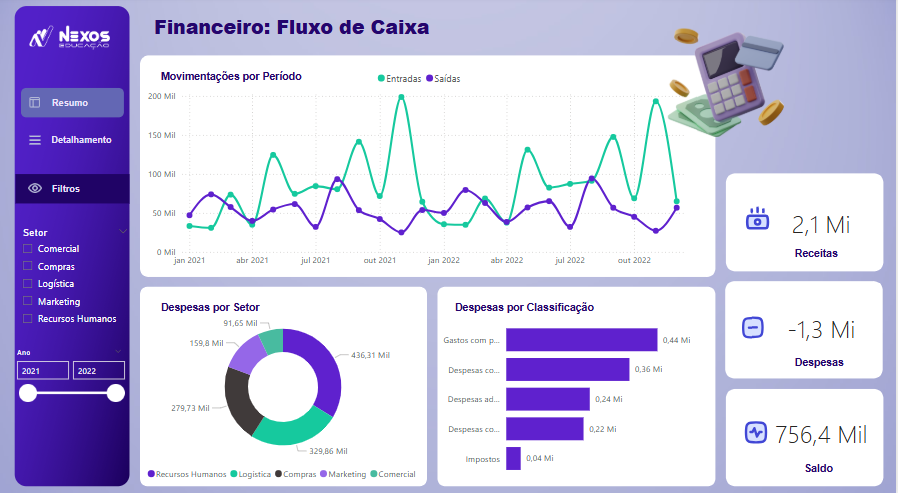

Layout of this report page (visuals, bound fields, positions):
{"tool":"powerbi","page":{"name":"Página 1","canvas":[1280,720],"ordinal":0},"visuals":[{"type":"lineChart","fields":{"Category":["Extratos.Data.Variation.Hierarquia de datas.Ano","Extratos.Data.Variation.Hierarquia de datas.Trimestre","Extratos.Data.Variation.Hierarquia de datas.Mês","Extratos.Data.Variation.Hierarquia de datas.Dia"],"Series":["Extratos.Tipo Movimentação"],"Y":["Sum(Extratos.Valor)"]},"box":[206.2,101.2,790,298.8],"z":0},{"type":"card","fields":{"Values":["Sum(Extratos.Saldo)"]},"box":[1074.4,597.8,197.8,63.3],"z":1000},{"type":"card","fields":{"Values":["Sum(Extratos.Saldo)"]},"box":[1074.4,448.9,197.8,63.3],"z":2000},{"type":"card","fields":{"Values":["Sum(Extratos.Saldo)"]},"box":[1074.4,296.7,197.8,63.3],"z":3000},{"type":"donutChart","fields":{"Category":["Setores.Setor"],"Y":["Sum(Extratos.Valor)"]},"box":[194.4,448.9,420,255.6],"z":4000},{"type":"barChart","fields":{"Category":["Extratos.Classificação"],"Y":["Sum(Extratos.Valor)"]},"box":[614.4,448.9,382.2,255.6],"z":5000},{"type":"slicer","fields":{"Values":["Setores.Setor"]},"box":[20,328.8,175,203.8],"z":6000},{"type":"slicer","fields":{"Values":["Extratos.Data.Variation.Hierarquia de datas.Ano"]},"box":[11.2,501.2,175,113.8],"z":6001}]}

Visuals, with their boxes on the page's 1280x720 design canvas (x1, y1, x2, y2). These are canvas units, not pixel positions in the 898x493 screenshot, which may show the page scaled, cropped or inside an application window:
lineChart - Extratos.Data.Variation.Hierarquia de datas.Ano x Extratos.Data.Variation.Hierarquia de datas.Trimestre: [left=206, top=101, right=996, bottom=400]
card - Sum(Extratos.Saldo): [left=1074, top=598, right=1272, bottom=661]
card - Sum(Extratos.Saldo): [left=1074, top=449, right=1272, bottom=512]
card - Sum(Extratos.Saldo): [left=1074, top=297, right=1272, bottom=360]
donutChart - Setores.Setor x Sum(Extratos.Valor): [left=194, top=449, right=614, bottom=704]
barChart - Extratos.Classificação x Sum(Extratos.Valor): [left=614, top=449, right=997, bottom=704]
slicer - Setores.Setor: [left=20, top=329, right=195, bottom=533]
slicer - Extratos.Data.Variation.Hierarquia de datas.Ano: [left=11, top=501, right=186, bottom=615]
